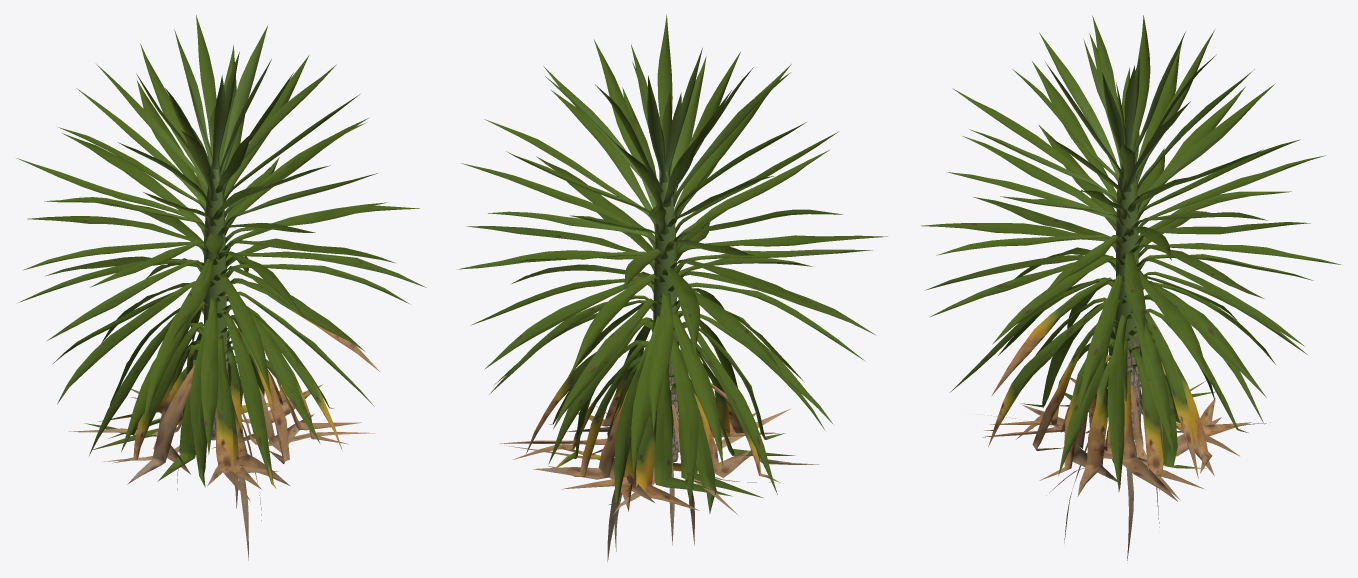
The model's file is yucca.glb.
The picture shows the model from 3 angles, left to right: view 1: azimuth 30°, elevation 25°; view 2: azimuth 150°, elevation 25°; view 3: azimuth 270°, elevation 25°; orthographic projection. The views are drawn at different scales.
Parts seen in each view (by area): view 1: Yucca_elephantipes_HD_Yucca eleph leaf 01b_0, Yucca_elephantipes_HD_Yucca eleph leaf 02_0, Yucca_elephantipes_HD_Yucca eleph leaf 01_0, Yucca_elephantipes_HD_Yucca eleph crownshaft 01_0, Yucca_elephantipes_HD_Yucca eleph leaf 03_0, Yucca_elephantipes_HD_Yucca eleph leaf 05_0; view 2: Yucca_elephantipes_HD_Yucca eleph leaf 01b_0, Yucca_elephantipes_HD_Yucca eleph leaf 01_0, Yucca_elephantipes_HD_Yucca eleph leaf 02_0, Yucca_elephantipes_HD_Yucca eleph crownshaft 01_0, Yucca_elephantipes_HD_Yucca eleph leaf 05_0, Yucca_elephantipes_HD_Yucca eleph leaf 03_0; view 3: Yucca_elephantipes_HD_Yucca eleph leaf 01b_0, Yucca_elephantipes_HD_Yucca eleph leaf 02_0, Yucca_elephantipes_HD_Yucca eleph leaf 01_0, Yucca_elephantipes_HD_Yucca eleph crownshaft 01_0, Yucca_elephantipes_HD_Yucca eleph leaf 03_0, Yucca_elephantipes_HD_Yucca eleph leaf 05_0.
Part boxes in pixels (<box>): Yucca_elephantipes_HD_Yucca eleph leaf 01b_0: <box>16,80,426,487</box>; Yucca_elephantipes_HD_Yucca eleph leaf 02_0: <box>98,278,379,489</box>; Yucca_elephantipes_HD_Yucca eleph leaf 01_0: <box>58,15,359,211</box>; Yucca_elephantipes_HD_Yucca eleph crownshaft 01_0: <box>204,160,227,373</box>; Yucca_elephantipes_HD_Yucca eleph leaf 03_0: <box>68,386,374,501</box>; Yucca_elephantipes_HD_Yucca eleph leaf 05_0: <box>177,423,261,560</box>; Yucca_elephantipes_HD_Yucca eleph leaf 01b_0: <box>458,64,887,514</box>; Yucca_elephantipes_HD_Yucca eleph leaf 01_0: <box>484,14,806,227</box>; Yucca_elephantipes_HD_Yucca eleph leaf 02_0: <box>500,271,818,511</box>; Yucca_elephantipes_HD_Yucca eleph crownshaft 01_0: <box>653,171,677,399</box>; Yucca_elephantipes_HD_Yucca eleph leaf 05_0: <box>607,462,694,561</box>; Yucca_elephantipes_HD_Yucca eleph leaf 03_0: <box>504,403,790,515</box>; Yucca_elephantipes_HD_Yucca eleph leaf 01b_0: <box>921,61,1341,492</box>; Yucca_elephantipes_HD_Yucca eleph leaf 02_0: <box>982,277,1251,501</box>; Yucca_elephantipes_HD_Yucca eleph leaf 01_0: <box>969,15,1263,212</box>; Yucca_elephantipes_HD_Yucca eleph crownshaft 01_0: <box>1115,166,1139,378</box>; Yucca_elephantipes_HD_Yucca eleph leaf 03_0: <box>988,380,1206,499</box>; Yucca_elephantipes_HD_Yucca eleph leaf 05_0: <box>1064,397,1159,560</box>.
Bounding box in the file's own units: 0.9005 × 1.16 × 0.8773.
9 materials, 9 textured.
